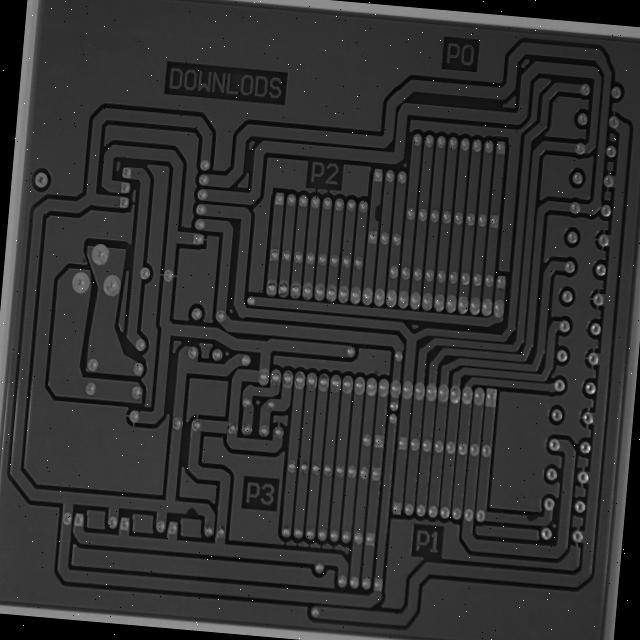mouse_bite: (515, 487, 535, 509), (350, 136, 365, 161), (144, 483, 163, 499)
